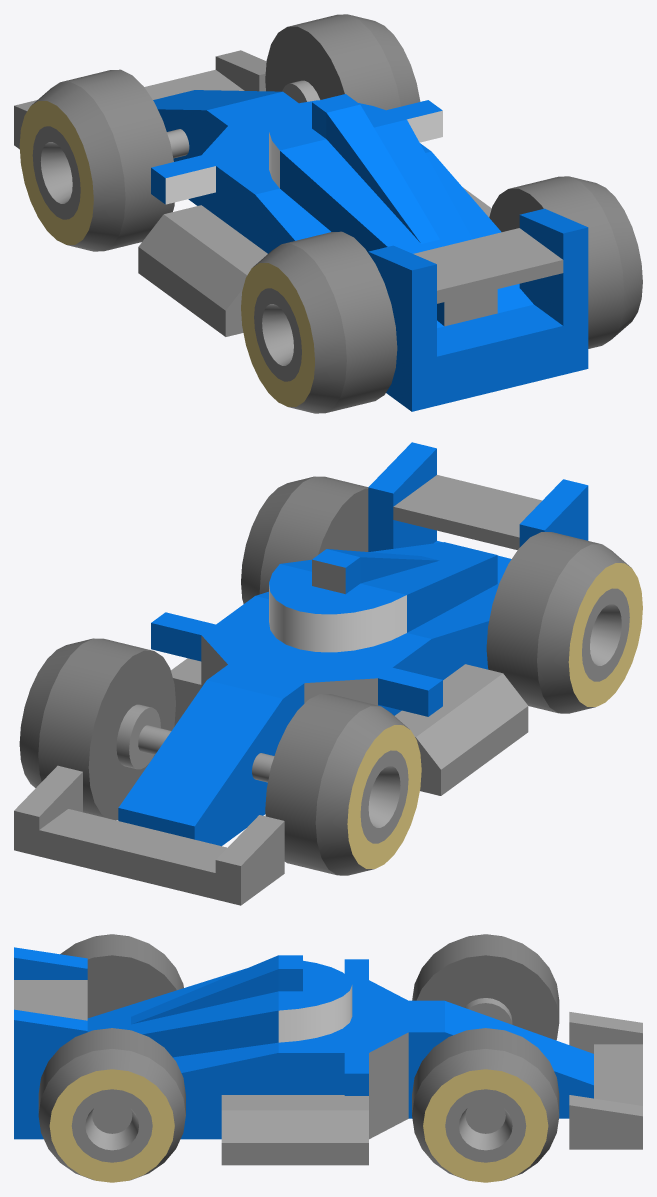
File: Car1.glb
3 views of the same model, one above another, from view 1: azimuth 30°, elevation 25°; view 2: azimuth 150°, elevation 25°; view 3: azimuth 270°, elevation 25° (orthographic). The views are drawn at different scales.
Parts seen in each view (by area): view 1: body, wheel_backLeft, wheel_frontLeft, wheel_backRight, wheel_frontRight; view 2: body, wheel_frontLeft, wheel_backLeft, wheel_frontRight, wheel_backRight; view 3: body, wheel_backRight, wheel_frontRight, wheel_frontLeft, wheel_backLeft.
Part boxes in pixels (<box>): body: <box>14,50,588,411</box>; wheel_backLeft: <box>241,231,397,413</box>; wheel_frontLeft: <box>19,69,174,251</box>; wheel_backRight: <box>489,176,642,348</box>; wheel_frontRight: <box>265,14,420,110</box>; body: <box>14,442,588,905</box>; wheel_frontLeft: <box>265,694,421,875</box>; wheel_backLeft: <box>486,532,642,713</box>; wheel_frontRight: <box>19,638,175,820</box>; wheel_backRight: <box>241,476,368,603</box>; body: <box>14,947,642,1165</box>; wheel_backRight: <box>38,1028,185,1182</box>; wheel_frontRight: <box>412,1028,559,1182</box>; wheel_frontLeft: <box>412,934,559,1040</box>; wheel_backLeft: <box>60,934,183,1018</box>.
Bounding box in the file's own units: 1.3 × 0.7325 × 2.56.
